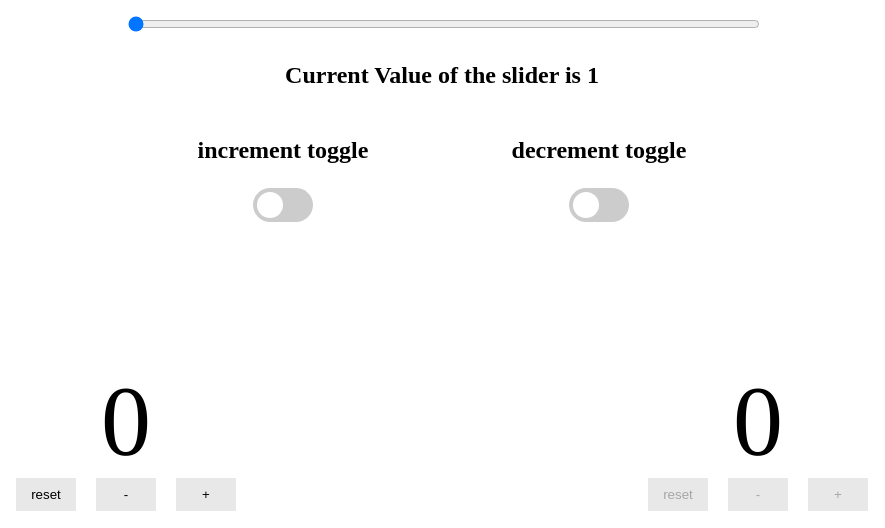
it: test app functionalities › should decrement correctly without crashing
The width and height of the screenshot is (885, 528).
Click the 1st button with test id "dec-btn-testid": (126, 494) [96,478,156,511]
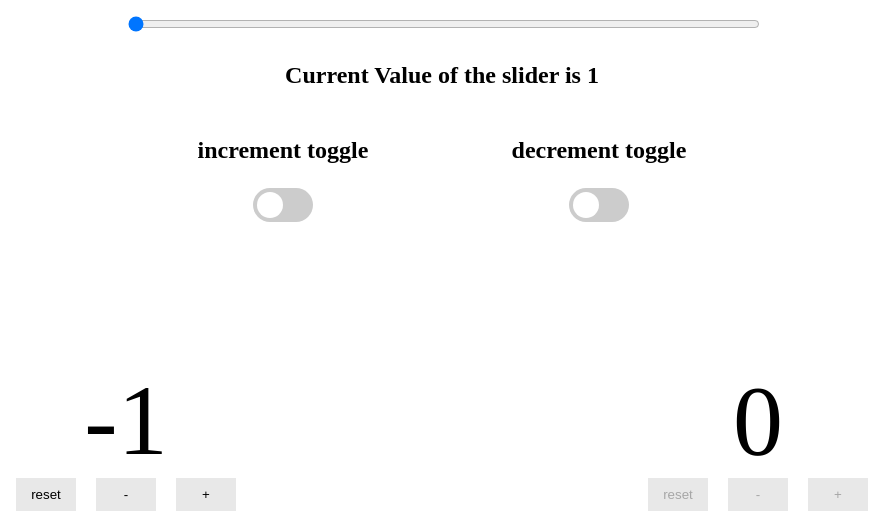
expect the text "-1" is shown: met, box [84,363,168,478]
